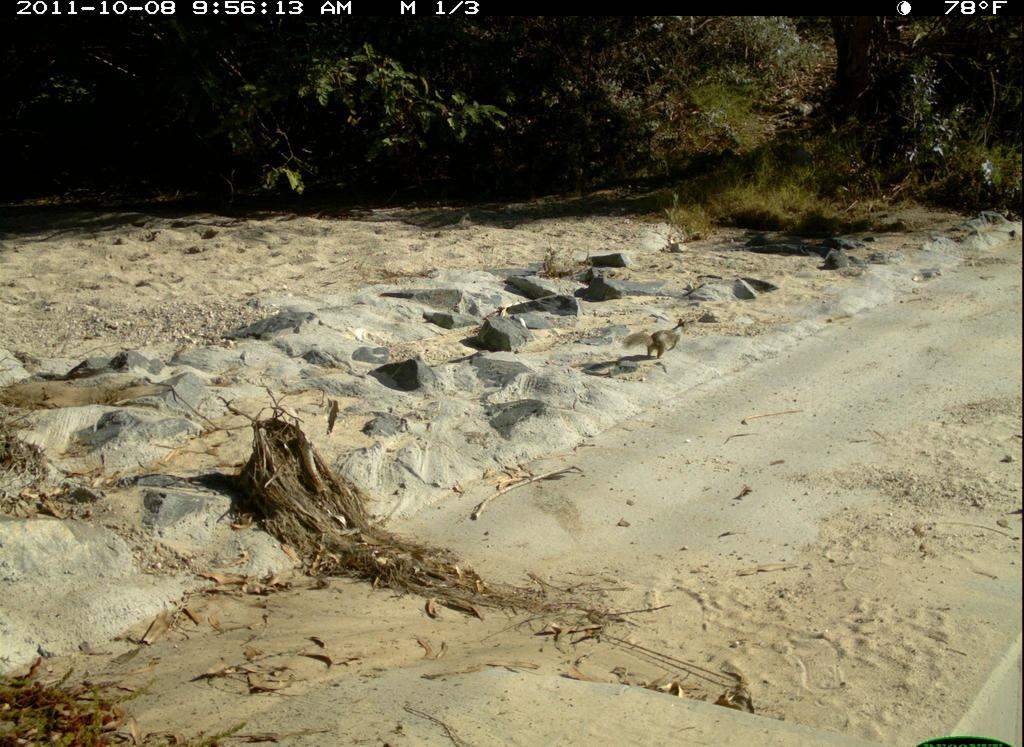squirrel: (617, 309, 700, 377)
